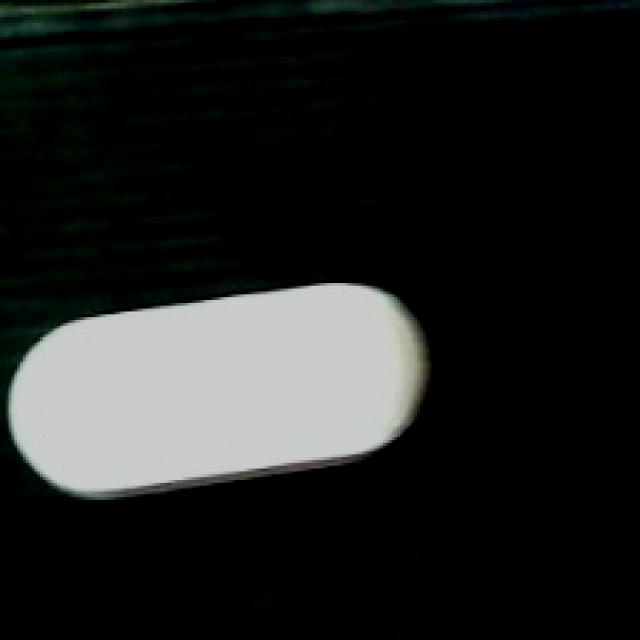no-defect: (3, 283, 434, 503)
